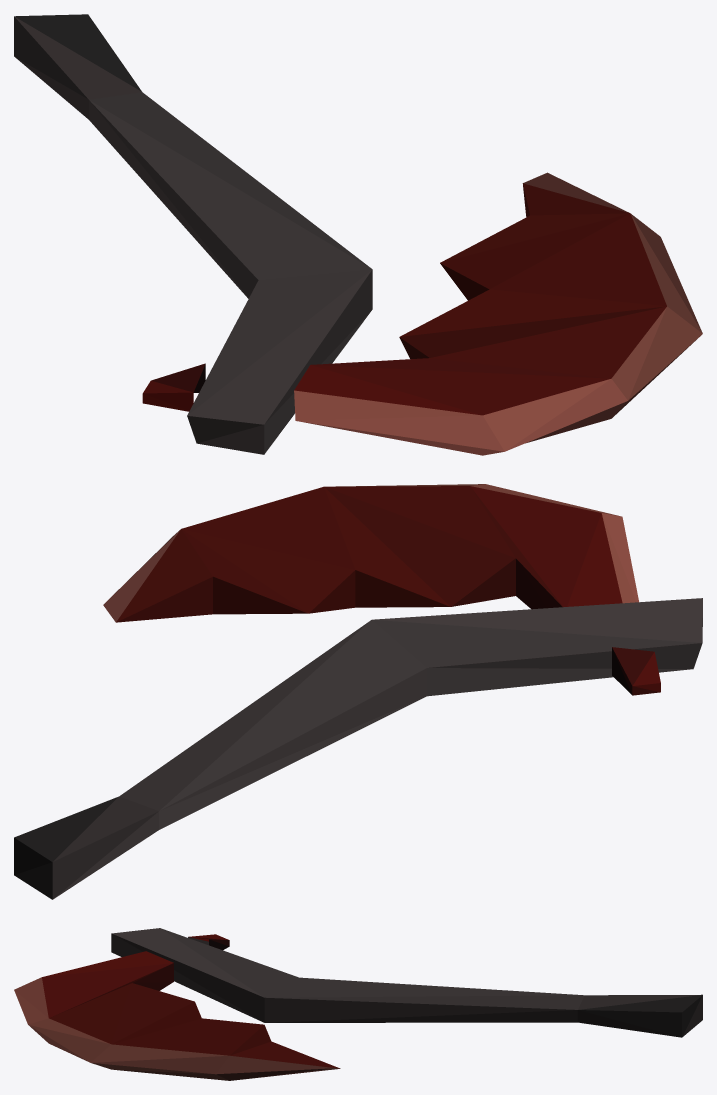
The model's file is dragon-hatchet.obj.
3 views of the same model, one above another, from view 1: azimuth 30°, elevation 25°; view 2: azimuth 150°, elevation 25°; view 3: azimuth 270°, elevation 25° (orthographic). The views are drawn at different scales.
Visible parts, largest first — view 1: ware; view 2: ware; view 3: ware.
Boxes of the visible parts, bbox=[...] form: ware: bbox=[14, 14, 702, 455]; ware: bbox=[14, 484, 702, 899]; ware: bbox=[14, 928, 702, 1080].
Size of the model in its own units: 54 by 7 by 99.
